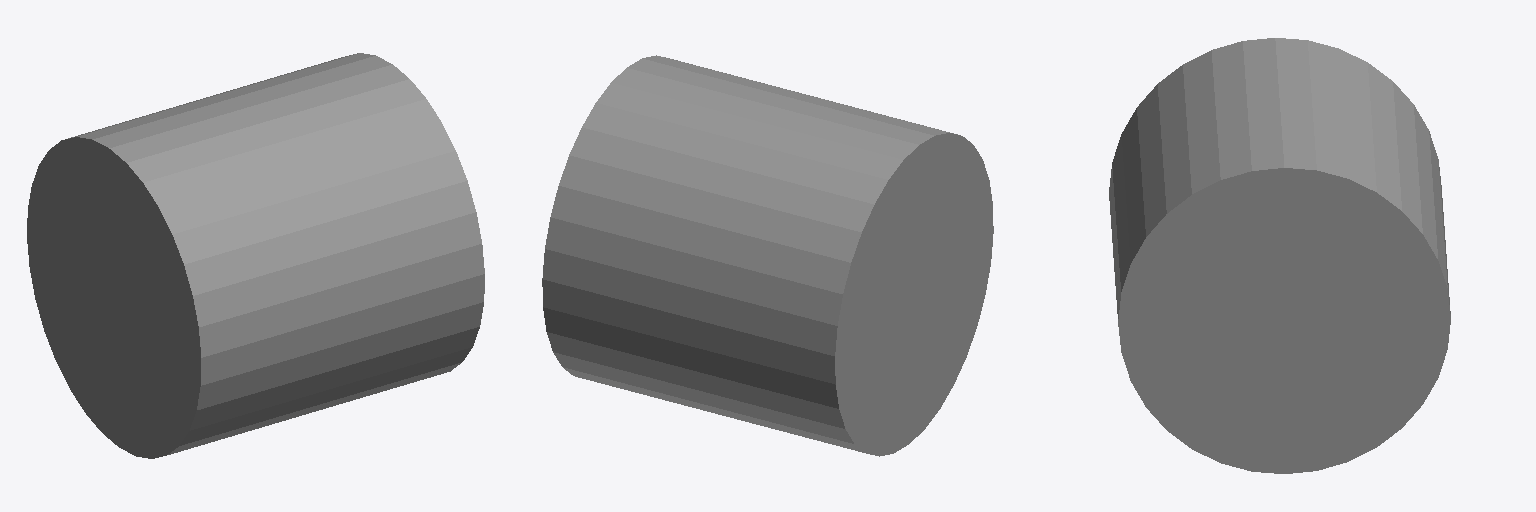
The model's file is wheelBackLeft.obj.
The picture shows the model from 3 angles: view 1: azimuth 30°, elevation 25°; view 2: azimuth 150°, elevation 25°; view 3: azimuth 270°, elevation 25°; orthographic projection.
Parts seen in each view (by area): view 1: Cylinder.001; view 2: Cylinder.001; view 3: Cylinder.001.
Part boxes in pixels (x1,y1,x2,y2): Cylinder.001: (27,53,484,458); Cylinder.001: (542,55,993,456); Cylinder.001: (1109,38,1450,473).
Size of the model in its own units: 1.36 by 1.35 by 1.34.